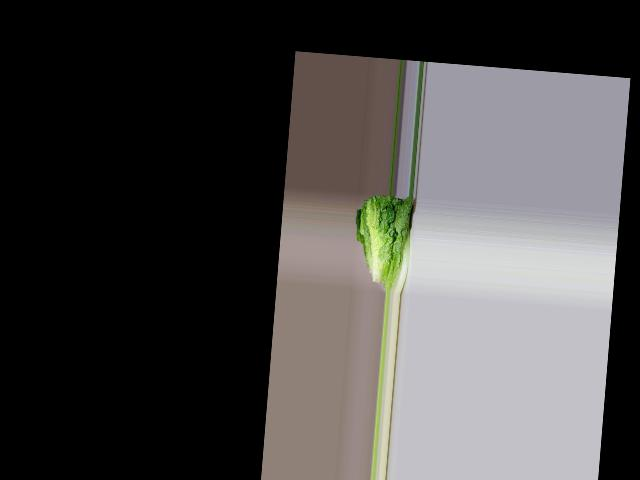lettuce: (357, 192, 416, 289)
